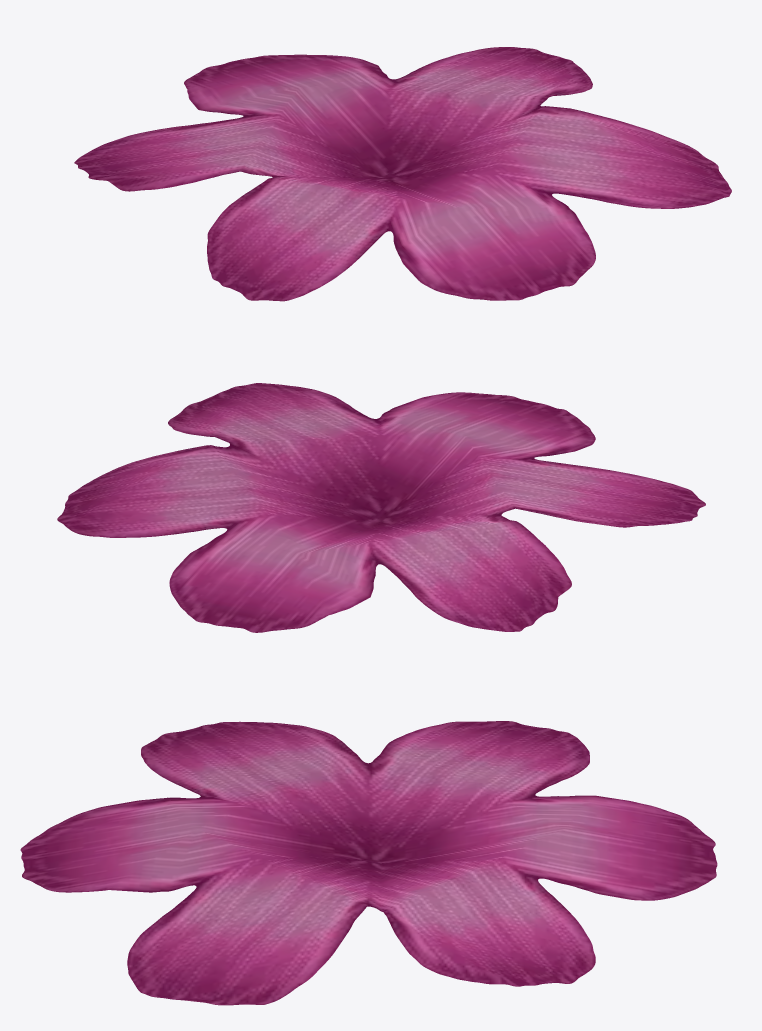
The model's file is Flower03-transformed.glb.
3 views of the same model, one above another, from view 1: azimuth 30°, elevation 25°; view 2: azimuth 150°, elevation 25°; view 3: azimuth 270°, elevation 25° (orthographic). The views are drawn at different scales.
Parts seen in each view (by area): view 1: Flower03; view 2: Flower03; view 3: Flower03.
Part boxes in pixels (x1,y1,x2,y2): Flower03: (74,47,731,301); Flower03: (57,383,705,632); Flower03: (20,721,717,1005).
Size of the model in its own units: 0.6029 by 0.0375 by 0.6029.
Materials: 1 (1 with a texture image).
